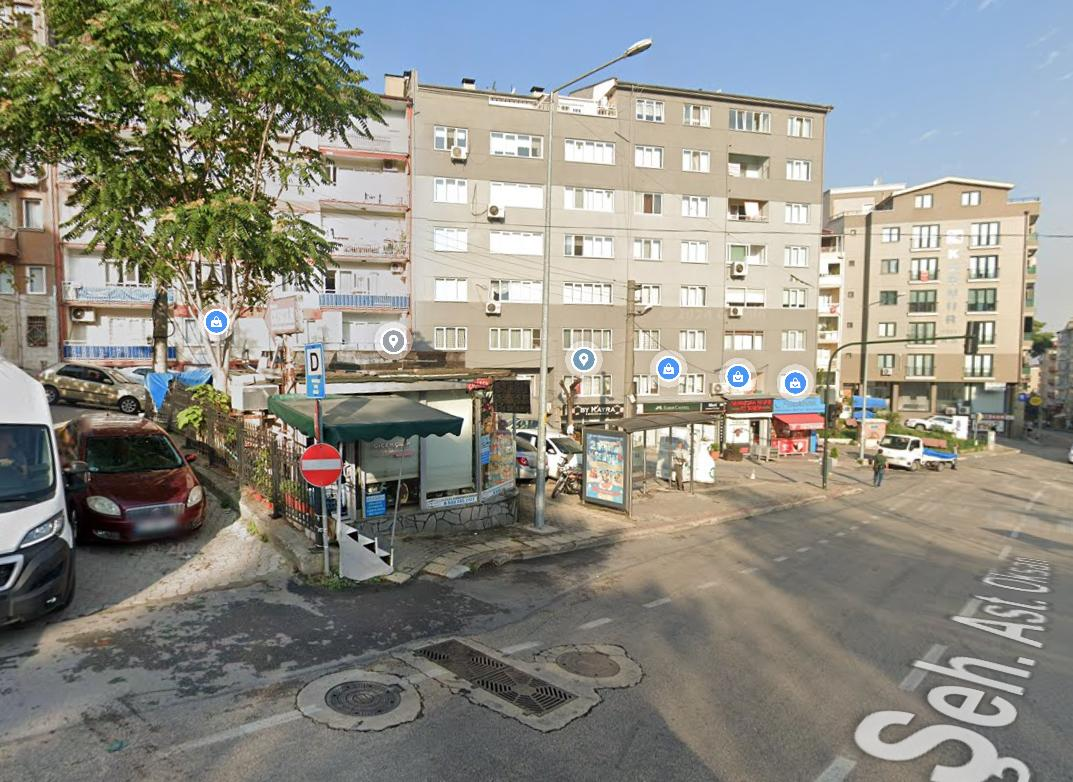station: (306, 346, 325, 375)
